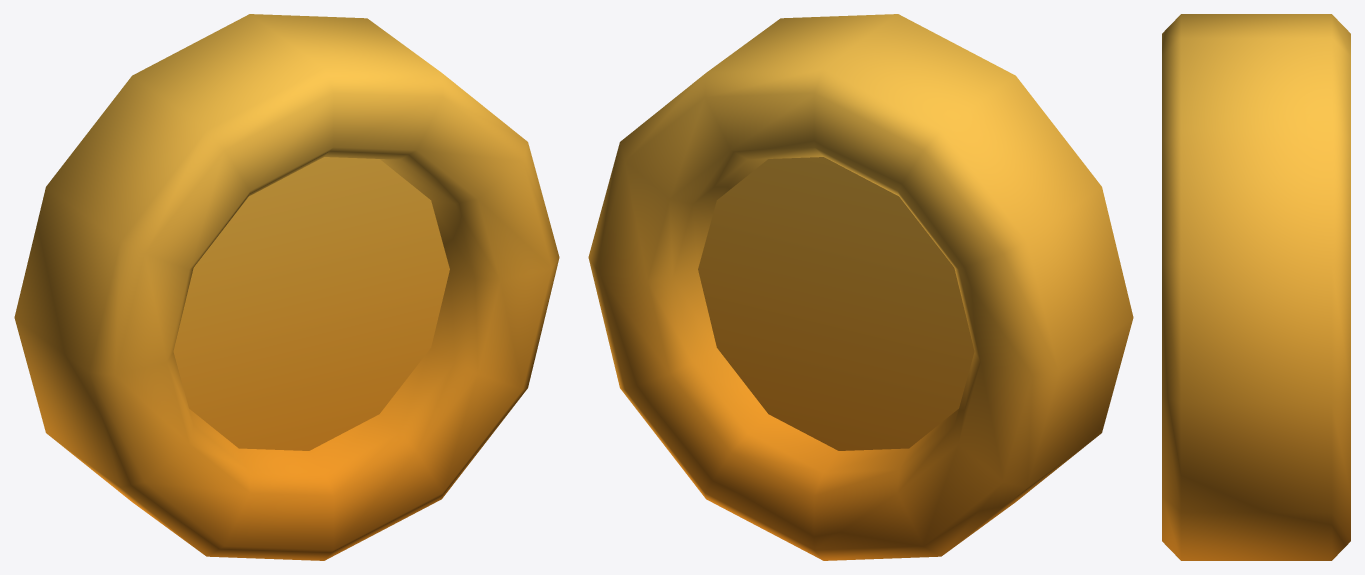
File: platform_kit013.fbx
The picture shows the model from 3 angles, left to right: view 1: azimuth 30°, elevation 25°; view 2: azimuth 150°, elevation 25°; view 3: azimuth 270°, elevation 25°; orthographic projection.
Parts seen in each view (by area): view 1: platform_kit013; view 2: platform_kit013; view 3: platform_kit013.
Boxes of the visible parts, x1,y1,x2,y2 form: platform_kit013: [14, 14, 559, 560]; platform_kit013: [588, 14, 1133, 560]; platform_kit013: [1162, 14, 1350, 560].
Bounding box in the file's own units: 53.75 × 53.75 × 18.49.
Materials: 1 (1 with a texture image).
